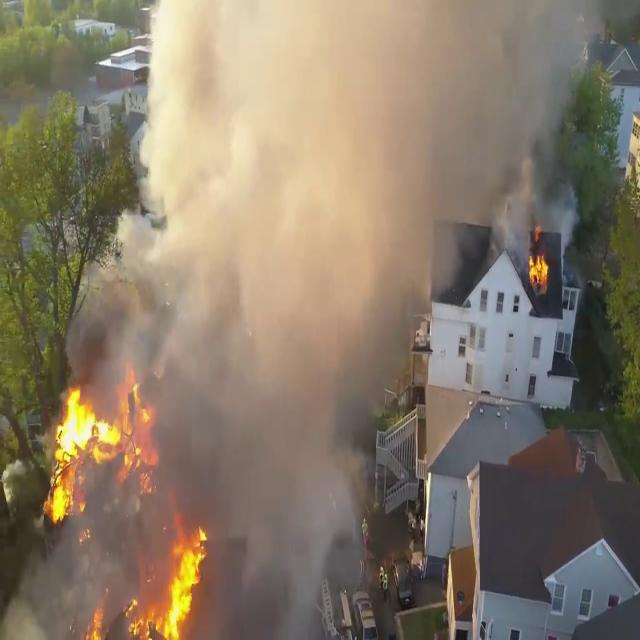Fire: (42, 372, 160, 522), (121, 521, 213, 640), (527, 239, 551, 293)
Smoke: (86, 3, 592, 542)
